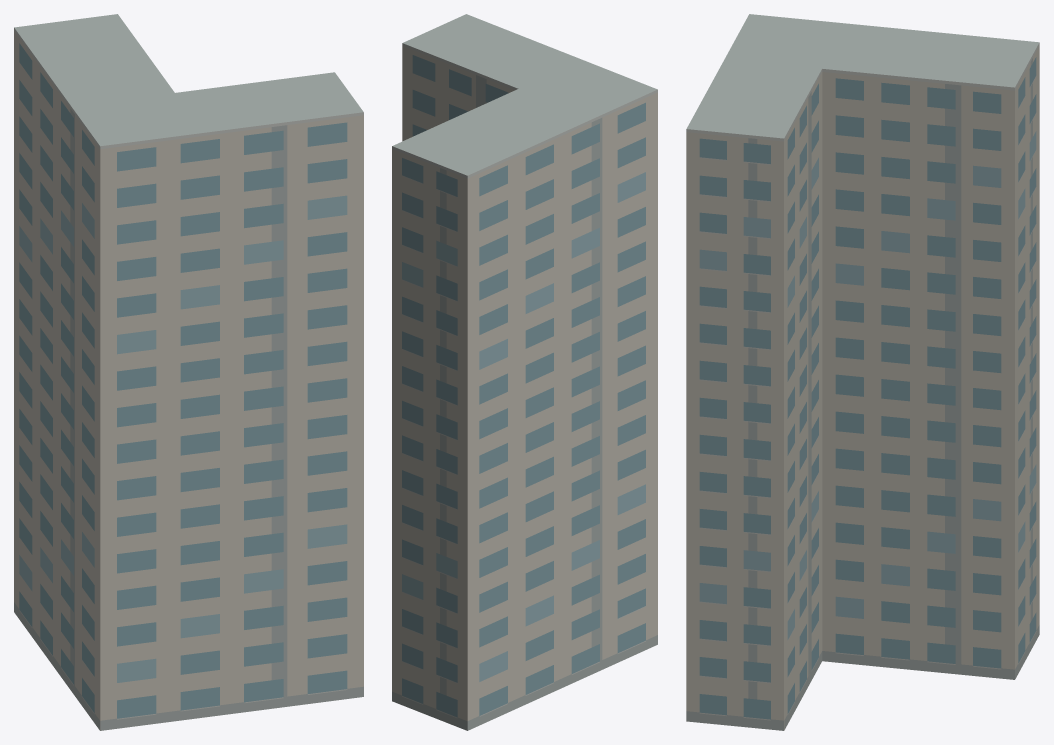
The model's file is residential-da227f0b-c73b-44a9-b0f7-6fbd8d2ca7d4.glb.
The picture shows the model from 3 angles, left to right: view 1: azimuth 30°, elevation 25°; view 2: azimuth 150°, elevation 25°; view 3: azimuth 270°, elevation 25°; orthographic projection. The views are drawn at different scales.
Visible parts, largest first — view 1: residential-da227f0b-c73b-44a9-b0f7-6fbd8d2ca7d4.tmp; view 2: residential-da227f0b-c73b-44a9-b0f7-6fbd8d2ca7d4.tmp; view 3: residential-da227f0b-c73b-44a9-b0f7-6fbd8d2ca7d4.tmp.
Boxes of the visible parts, left/top/right/bottom form: residential-da227f0b-c73b-44a9-b0f7-6fbd8d2ca7d4.tmp: left=14, top=14, right=363, bottom=730; residential-da227f0b-c73b-44a9-b0f7-6fbd8d2ca7d4.tmp: left=392, top=14, right=657, bottom=730; residential-da227f0b-c73b-44a9-b0f7-6fbd8d2ca7d4.tmp: left=686, top=14, right=1039, bottom=730.
Size of the model in its own units: 21.2 by 47 by 25.4.
